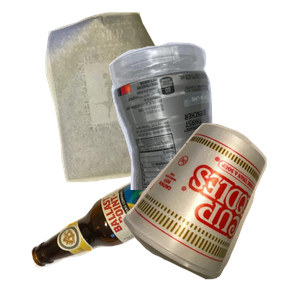glass: (29, 150, 238, 300)
paper: (43, 10, 221, 185)
plastic: (106, 40, 300, 220)
trash: (119, 121, 300, 300)
